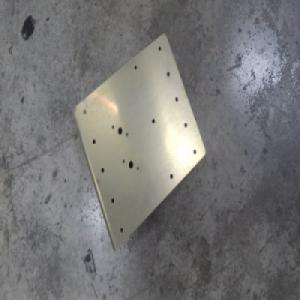MetalSheet: (69, 31, 206, 252)
